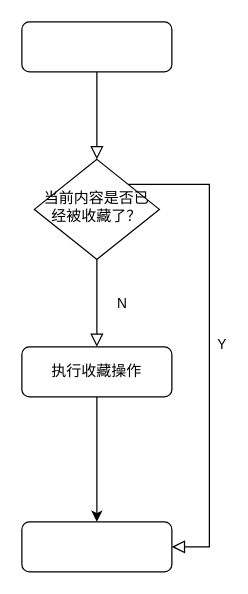
Some shapes in this 248 by 594 pixel diagram are drawn without their labels. The box of each missing label's shape, as (x1, y1, x2, y2) in pixels:
开始: (21, 21, 172, 72)
结束: (21, 521, 172, 572)
